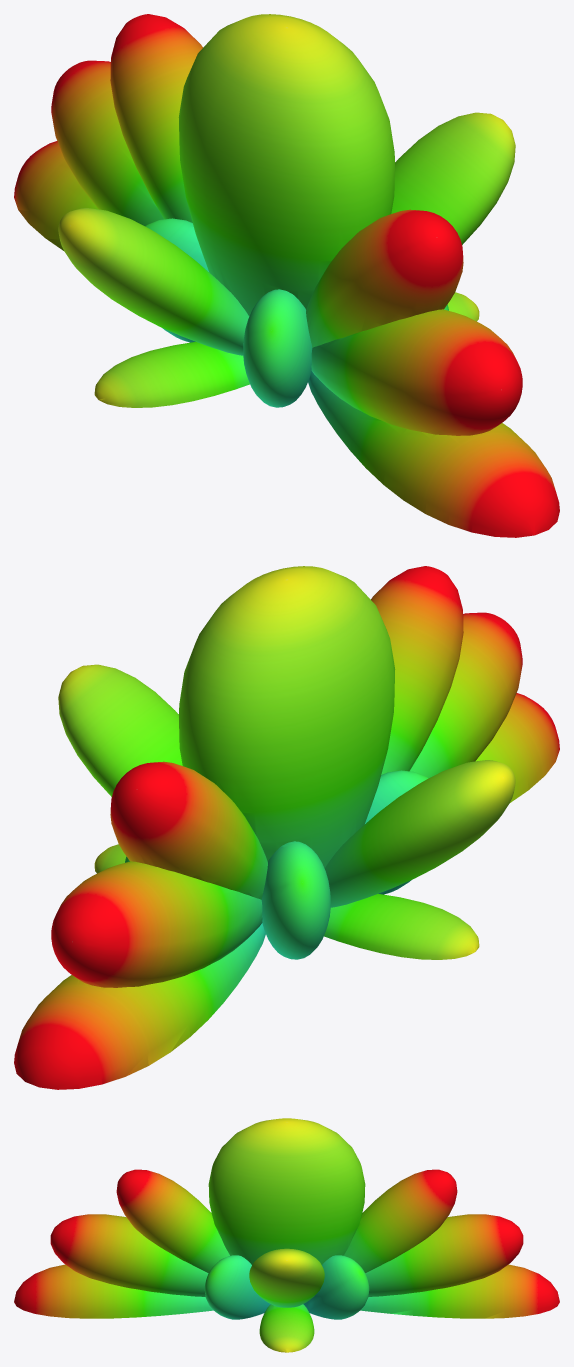
File: radius_final2.glb
The picture shows the model from 3 angles, top to bottom: view 1: azimuth 30°, elevation 25°; view 2: azimuth 150°, elevation 25°; view 3: azimuth 270°, elevation 25°; orthographic projection. The views are drawn at different scales.
Parts seen in each view (by area): view 1: 球体.004; view 2: 球体.004; view 3: 球体.004.
Part boxes in pixels (left/top/right/bottom): 球体.004: left=14, top=14, right=559, bottom=537; 球体.004: left=14, top=566, right=559, bottom=1089; 球体.004: left=14, top=1118, right=559, bottom=1352.
Size of the model in its own units: 2.29 by 1.62 by 4.46.
22 materials, 22 textured.
